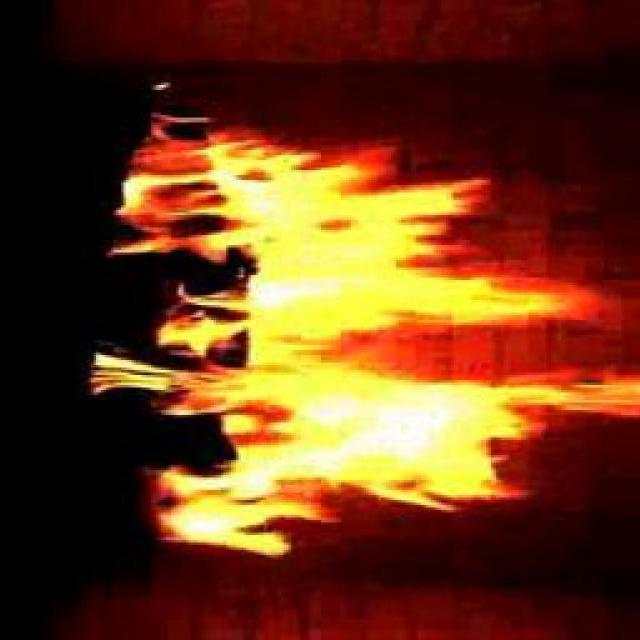Fire: (172, 140, 608, 518)
